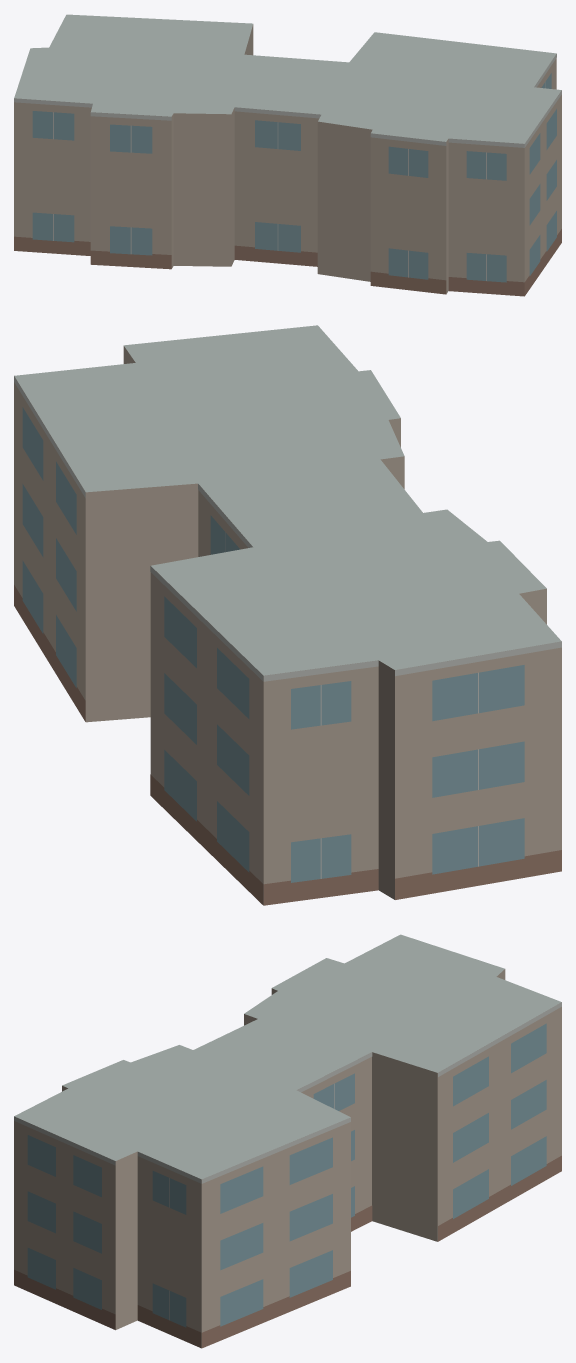
File: survey-upis-32624761.glb
The picture shows the model from 3 angles, top to bottom: view 1: azimuth 30°, elevation 25°; view 2: azimuth 150°, elevation 25°; view 3: azimuth 270°, elevation 25°; orthographic projection. The views are drawn at different scales.
Visible parts, largest first — view 1: survey-upis-32624761.tmp; view 2: survey-upis-32624761.tmp; view 3: survey-upis-32624761.tmp.
Boxes of the visible parts, box(x1,y1,x2,y2) form: survey-upis-32624761.tmp: box(14, 14, 561, 296); survey-upis-32624761.tmp: box(14, 325, 561, 905); survey-upis-32624761.tmp: box(14, 934, 561, 1348).
Bounding box in the file's own units: 28.44 × 9.15 × 26.88.
